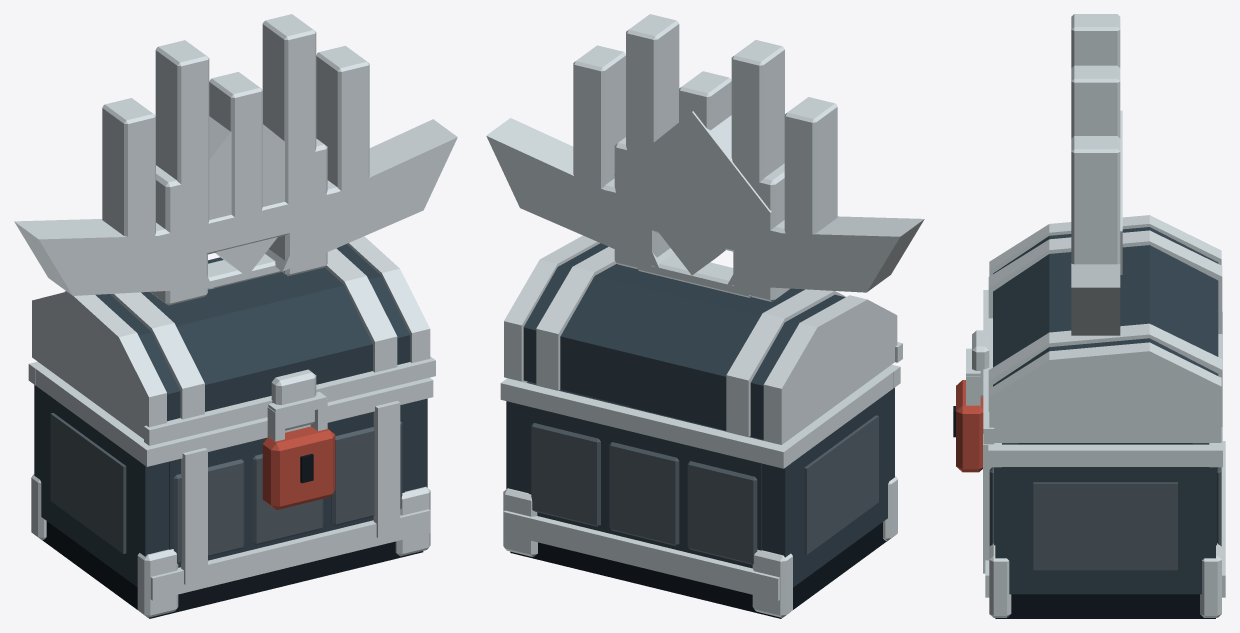
Rendered from white-steel-chest.glb.
3 views of the same model, side by side, from view 1: azimuth 30°, elevation 25°; view 2: azimuth 150°, elevation 25°; view 3: azimuth 270°, elevation 25° (orthographic).
Visible parts, largest first — view 1: Body, Lid, Emblem5, Emblem4, Emblem2, LockLocked, Emblem3, Emblem1; view 2: Body, Lid, Emblem5, Emblem4, Emblem3, Emblem2, Emblem1; view 3: Lid, Body, Emblem5, Emblem4, LockLocked, Emblem3.
Boxes of the visible parts, <box> form: Body: <box>28,361,433,618</box>; Lid: <box>32,236,435,445</box>; Emblem5: <box>102,14,375,273</box>; Emblem4: <box>14,119,457,295</box>; Emblem2: <box>150,138,327,305</box>; LockLocked: <box>262,392,335,509</box>; Emblem3: <box>209,116,284,276</box>; Emblem1: <box>208,254,281,289</box>; Body: <box>500,364,900,618</box>; Lid: <box>504,235,902,444</box>; Emblem5: <box>573,14,837,270</box>; Emblem4: <box>486,118,924,292</box>; Emblem3: <box>614,111,771,275</box>; Emblem2: <box>614,137,789,301</box>; Emblem1: <box>637,253,751,297</box>; Lid: <box>972,215,1222,444</box>; Body: <box>983,311,1225,618</box>; Emblem5: <box>1071,14,1120,264</box>; Emblem4: <box>1071,263,1120,335</box>; LockLocked: <box>953,348,983,472</box>; Emblem3: <box>1120,110,1122,274</box>.
Size of the model in its own units: 1.96 by 2.28 by 1.11.
